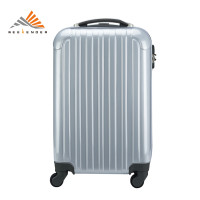luggage: (51, 18, 156, 186)
